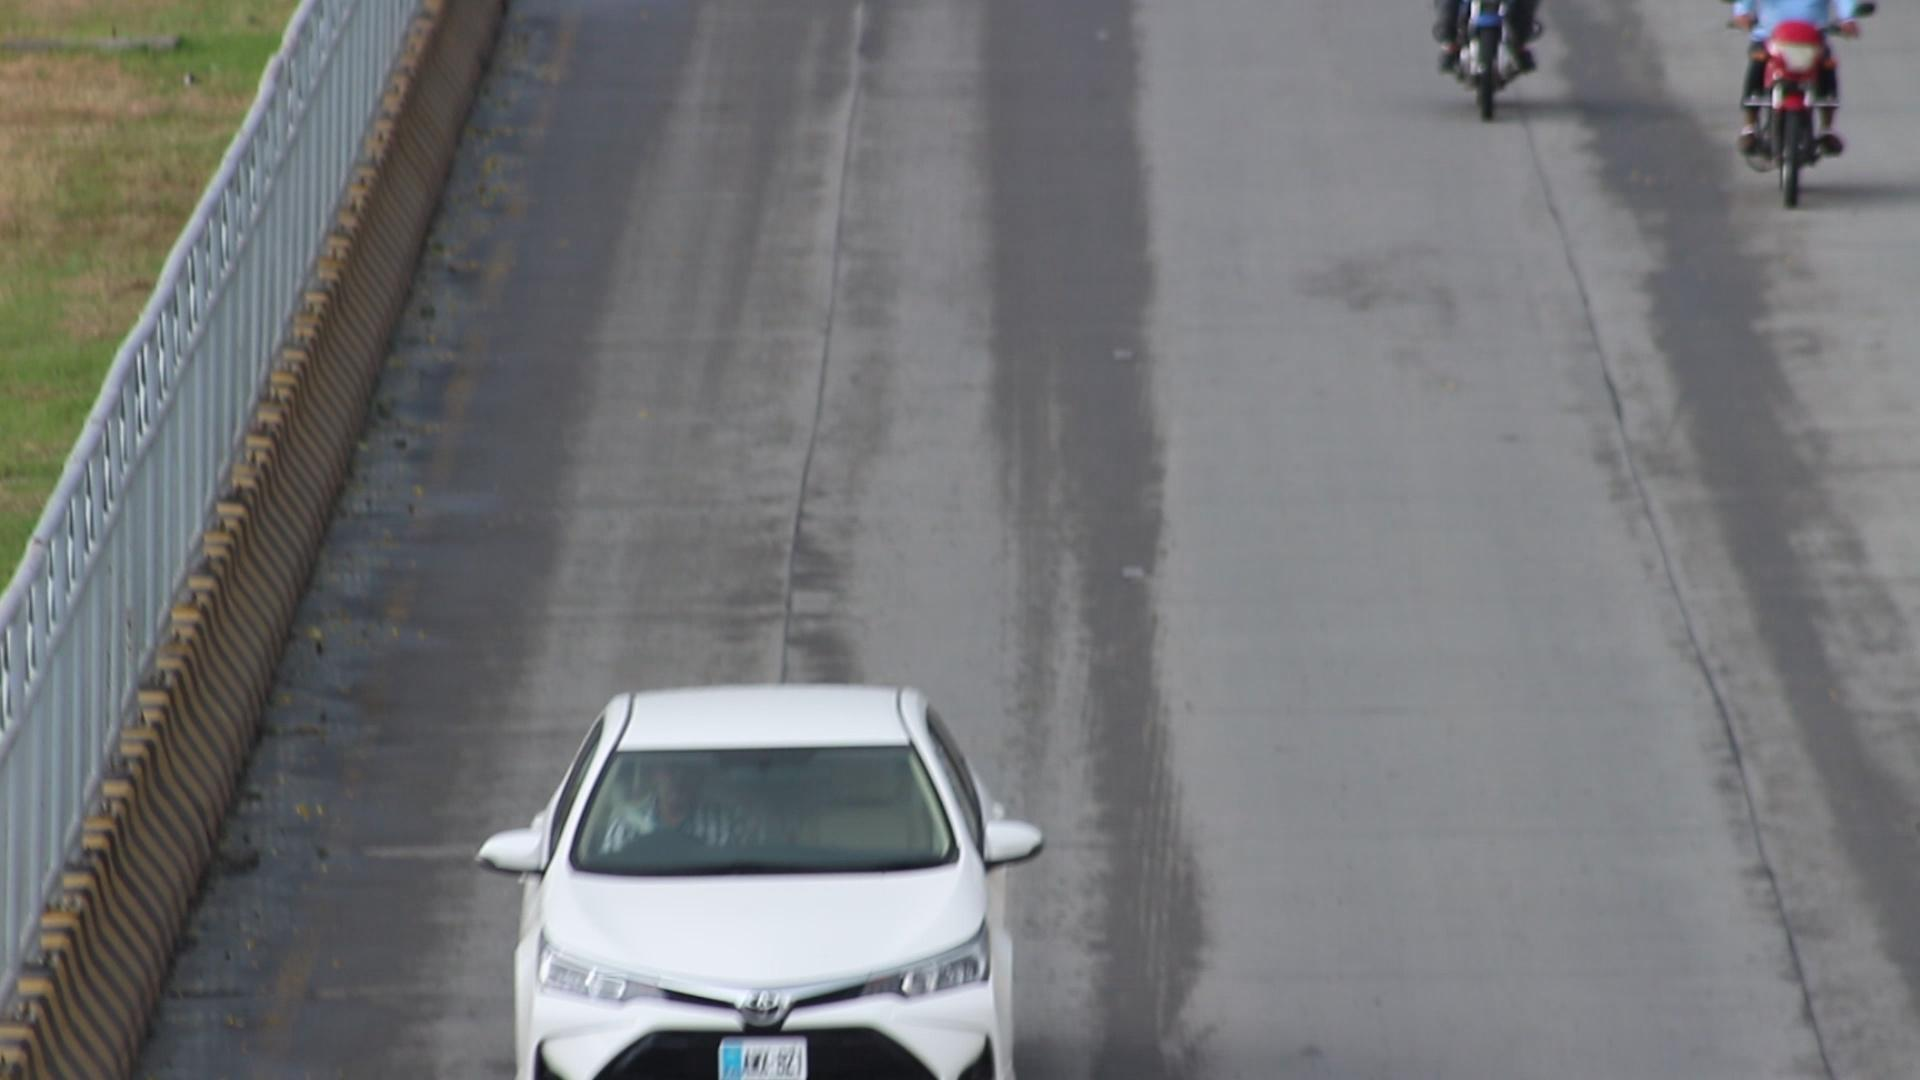windshield: (558, 716, 971, 886)
